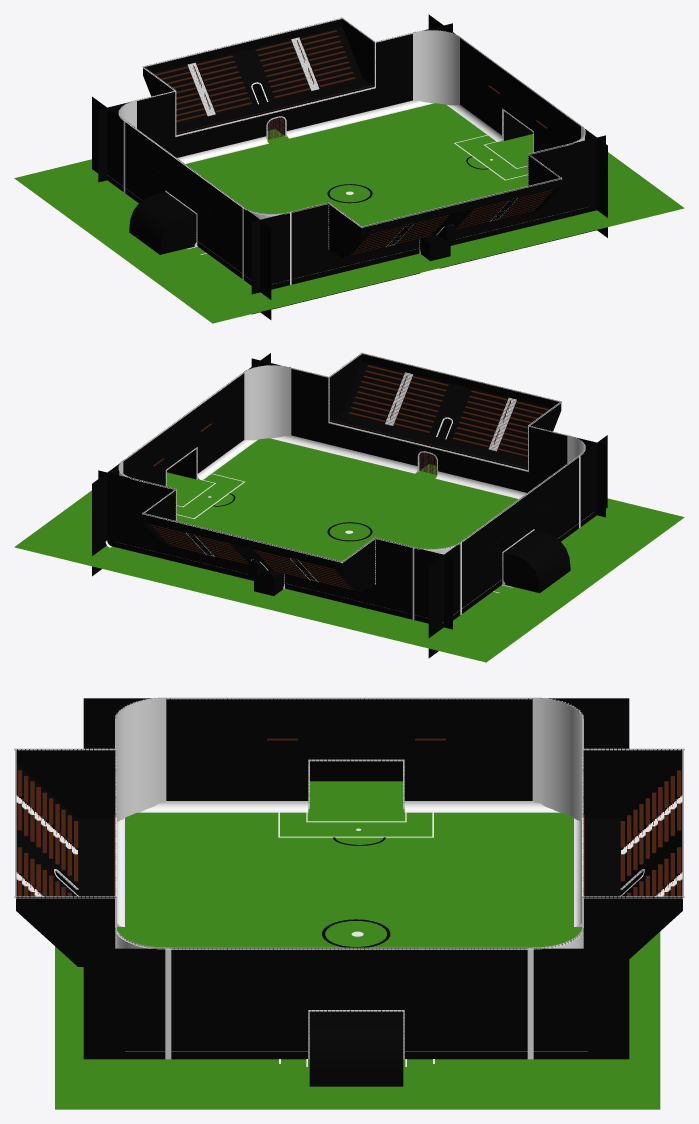
Rendered from Map44Full.FBX.
The picture shows the model from 3 angles, top to bottom: view 1: azimuth 30°, elevation 25°; view 2: azimuth 150°, elevation 25°; view 3: azimuth 270°, elevation 25°; orthographic projection. The views are drawn at different scales.
Parts seen in each view (by area): view 1: Stands, Ground, Goal; view 2: Stands, Ground, Goal; view 3: Goal, Ground, Stands, FlagRed02, FlagRed01.
Part boxes in pixels (x1=…): Stands: x1=98, y1=17, x2=605, y2=314; Ground: x1=14, y1=103, x2=684, y2=323; Goal: x1=92, y1=14, x2=607, y2=319; Stands: x1=98, y1=352, x2=605, y2=629; Ground: x1=14, y1=438, x2=684, y2=662; Goal: x1=92, y1=353, x2=607, y2=658; Goal: x1=83, y1=697, x2=629, y2=1086; Ground: x1=55, y1=781, x2=660, y2=1109; Stands: x1=14, y1=697, x2=684, y2=1059; FlagRed02: x1=267, y1=738, x2=298, y2=792; FlagRed01: x1=415, y1=738, x2=445, y2=792.
Size of the model in its own units: 533 by 101 by 430.
